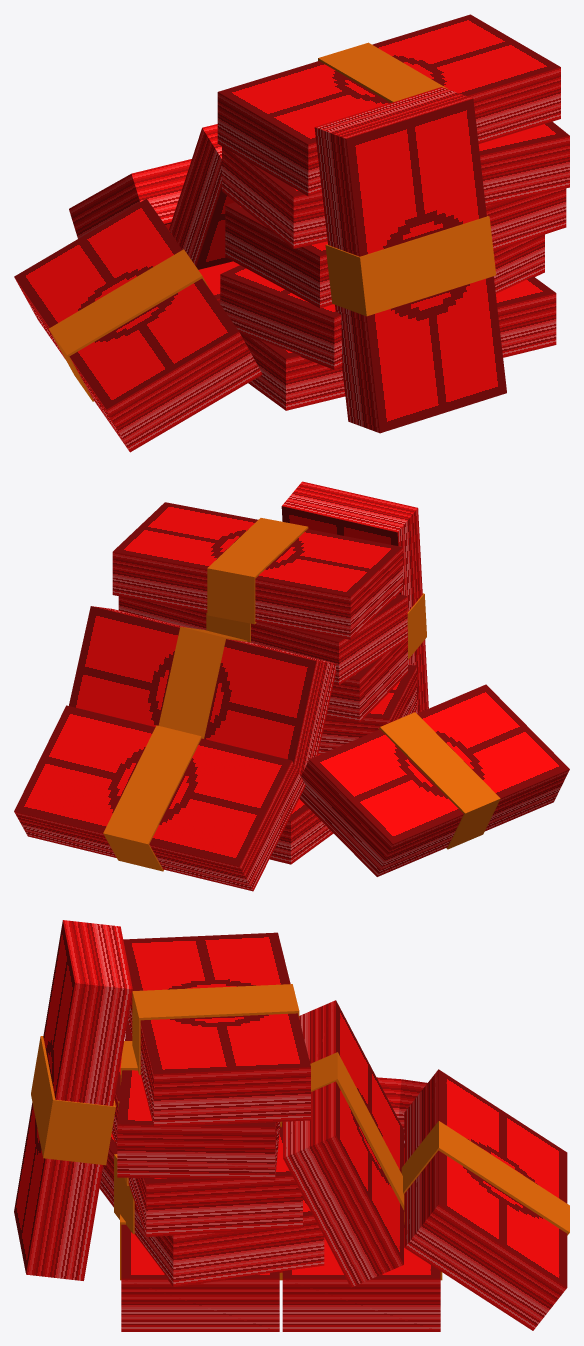
File: SmallMoneyStack.fbx
3 views of the same model, one above another, from view 1: azimuth 30°, elevation 25°; view 2: azimuth 150°, elevation 25°; view 3: azimuth 270°, elevation 25° (orthographic). The views are drawn at different scales.
Parts seen in each view (by area): view 1: SmallStack; view 2: SmallStack; view 3: SmallStack.
Part boxes in pixels (x1=…): SmallStack: x1=14, y1=14, x2=569, y2=452; SmallStack: x1=14, y1=481, x2=569, y2=891; SmallStack: x1=14, y1=920, x2=569, y2=1331.
Size of the model in its own units: 68.74 by 40.52 by 68.38.
Materials: 2 (1 with a texture image).
